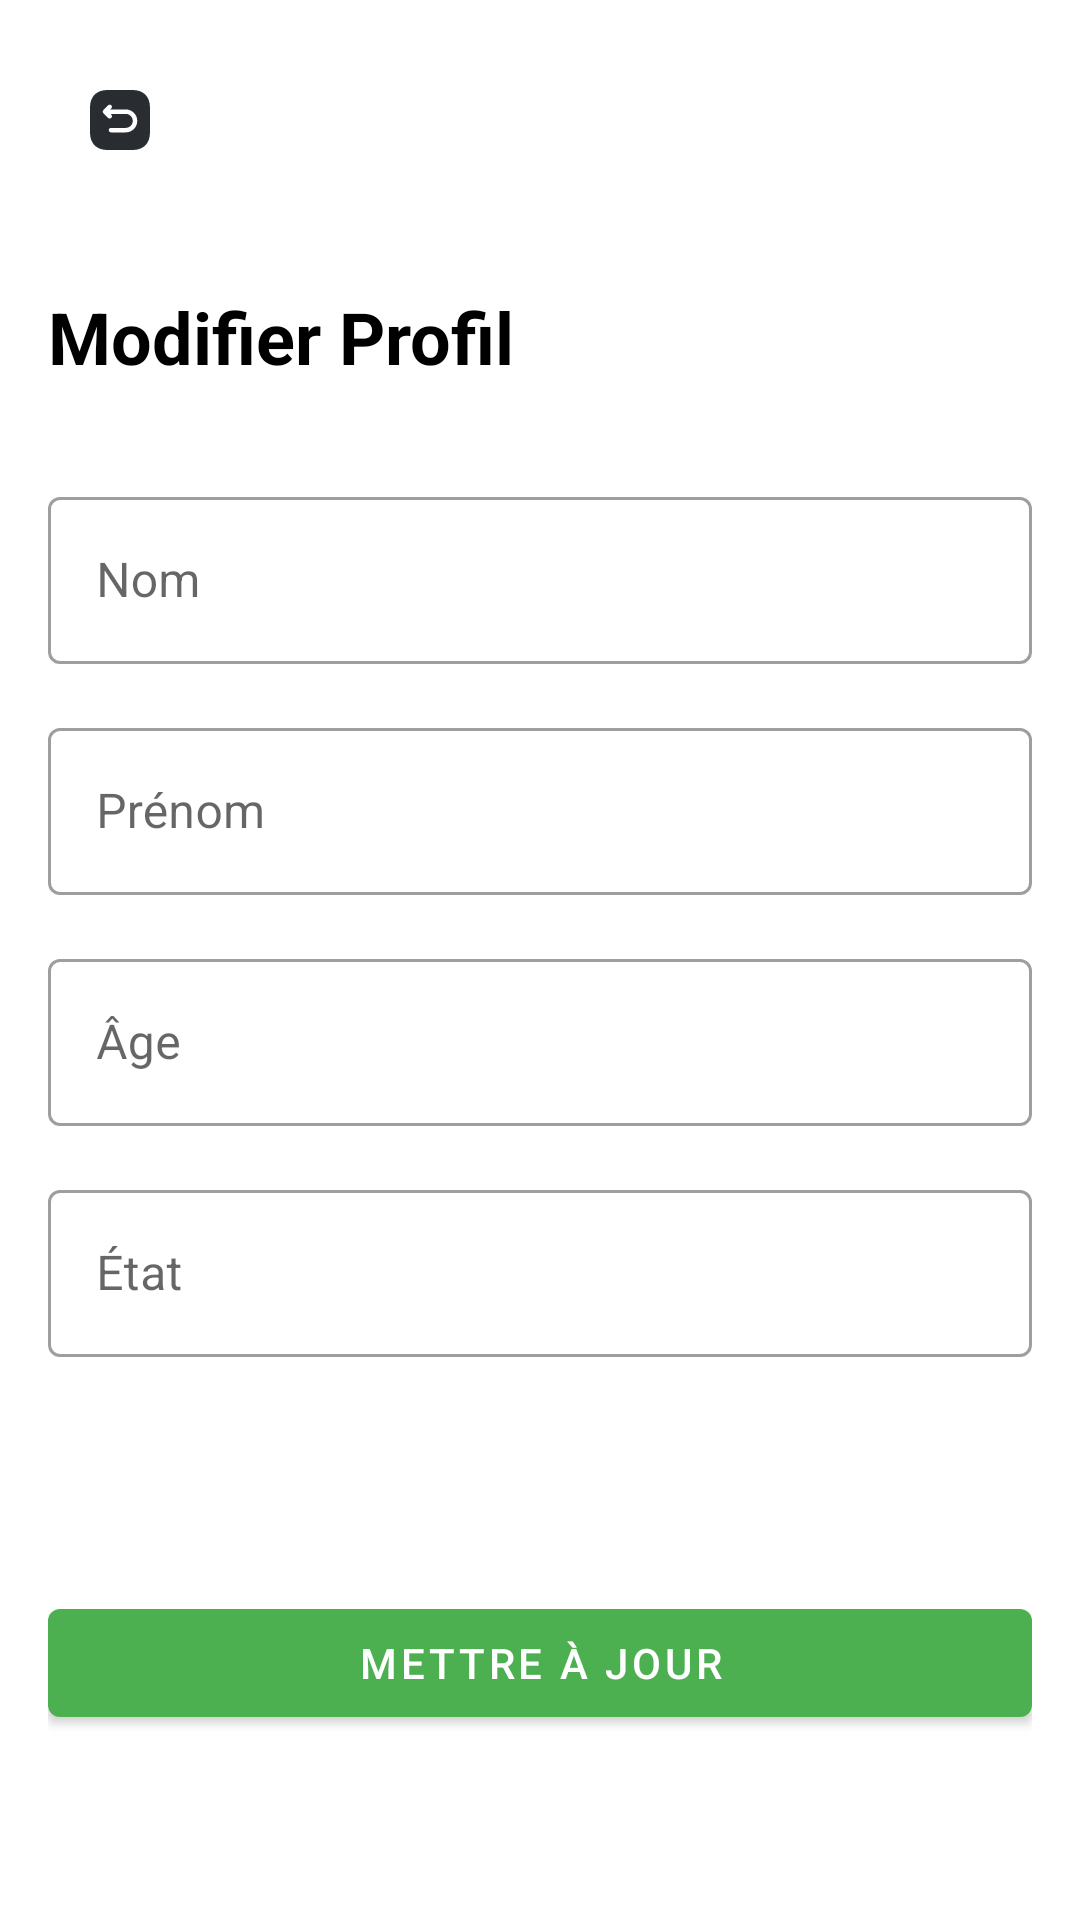

Locate icon controls on the screen. Image size 1080 × 1920, boxes as [x1, y1, x2, y2].
back: [90, 90, 150, 150]
